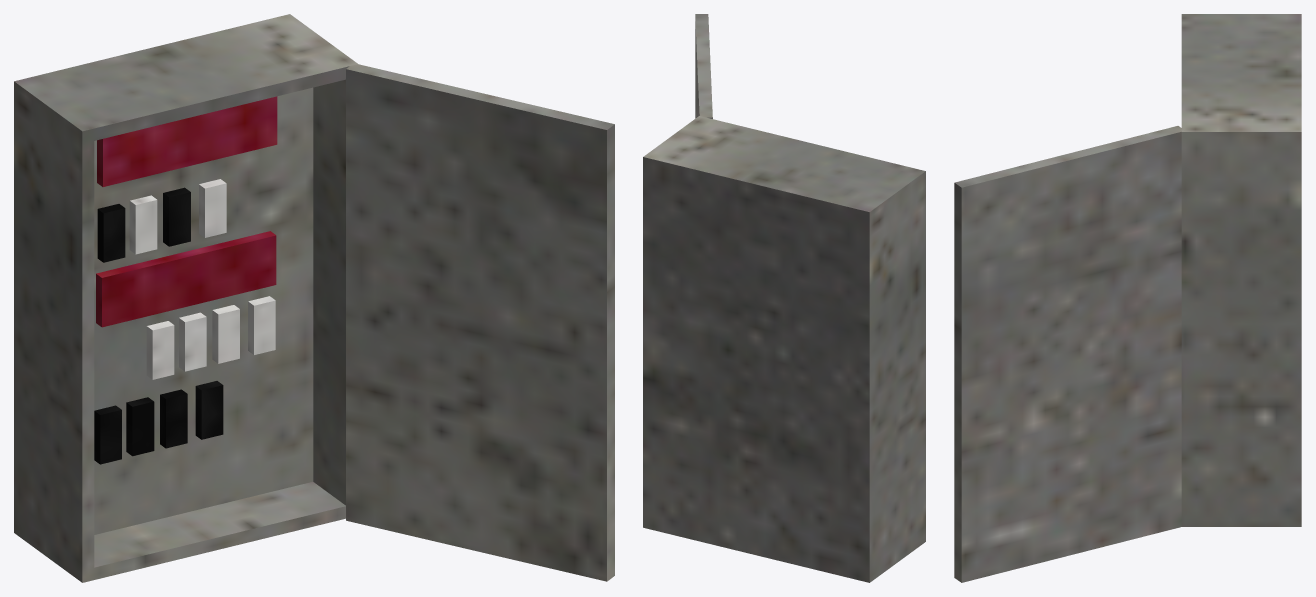
Rendered from panel.fbx.
3 renders of one model, left to right at view 1: azimuth 30°, elevation 25°; view 2: azimuth 150°, elevation 25°; view 3: azimuth 270°, elevation 25°, orthographic. The views are drawn at different scales.
Parts seen in each view (by area): view 1: Cube.033, Cube.039, Cube.035, Cube.047, Cube.034, Cube.036, Cube.045, Cube.040, Cube.041, Cube.042, Cube.043, Cube.044 (+3 smaller); view 2: Cube.033; view 3: Cube.033.
Part boxes in pixels (x1,y1,x2,y2): Cube.033: [14, 14, 614, 582]; Cube.039: [96, 231, 276, 327]; Cube.035: [97, 96, 277, 186]; Cube.047: [195, 381, 223, 439]; Cube.034: [97, 204, 125, 262]; Cube.036: [129, 195, 157, 254]; Cube.045: [126, 397, 154, 456]; Cube.040: [146, 321, 174, 379]; Cube.041: [179, 312, 206, 371]; Cube.042: [212, 305, 239, 363]; Cube.043: [248, 296, 275, 354]; Cube.044: [94, 405, 121, 464]; Cube.033: [643, 14, 925, 582]; Cube.033: [954, 14, 1301, 582].
Bounding box in the file's own units: 88.43 × 93.83 × 74.68.
